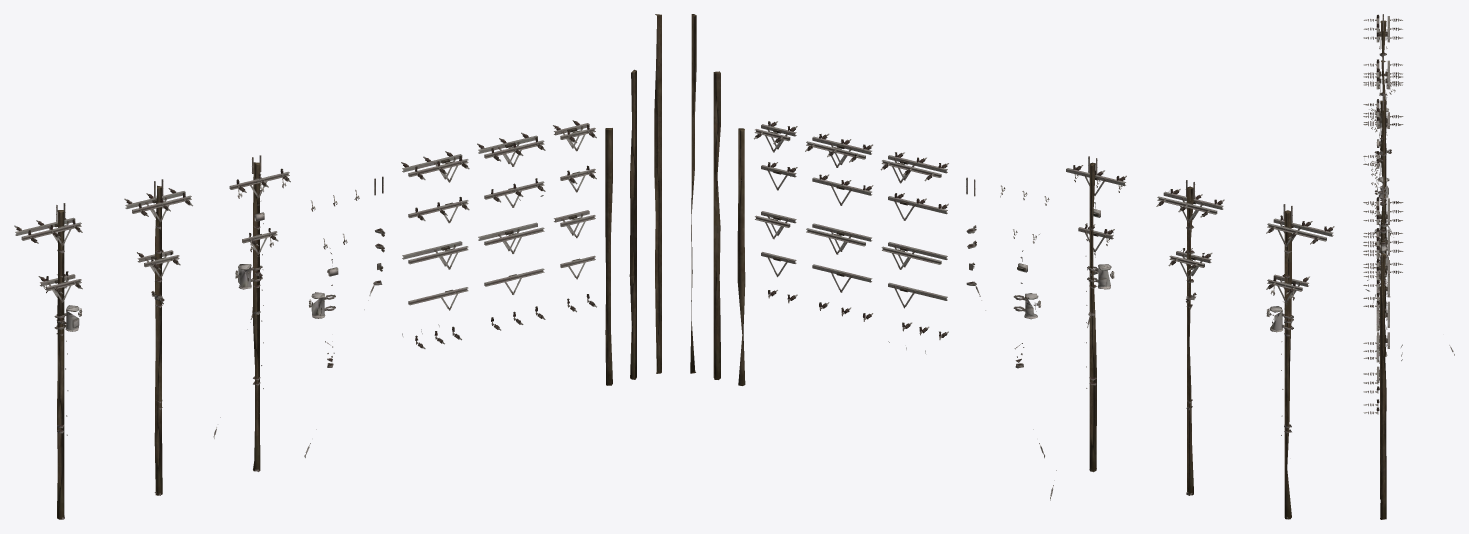
Rendered from modular_electricity_poles_lod2.glb.
The picture shows the model from 3 angles, left to right: view 1: azimuth 30°, elevation 25°; view 2: azimuth 150°, elevation 25°; view 3: azimuth 270°, elevation 25°; orthographic projection. The views are drawn at different scales.
Visible parts, largest first — view 1: bolt_large, pole; view 2: bolt_large, pole; view 3: bolt_large, pole.
Boxes of the visible parts, x1,y1,x2,y2 form: bolt_large: (14, 120, 596, 519); pole: (57, 14, 661, 519); bolt_large: (754, 121, 1334, 519); pole: (690, 14, 1291, 519); bolt_large: (1363, 14, 1454, 414); pole: (1380, 20, 1386, 519).
Size of the model in its own units: 13.1 by 7 by 1.94.
2 materials, 2 textured.
